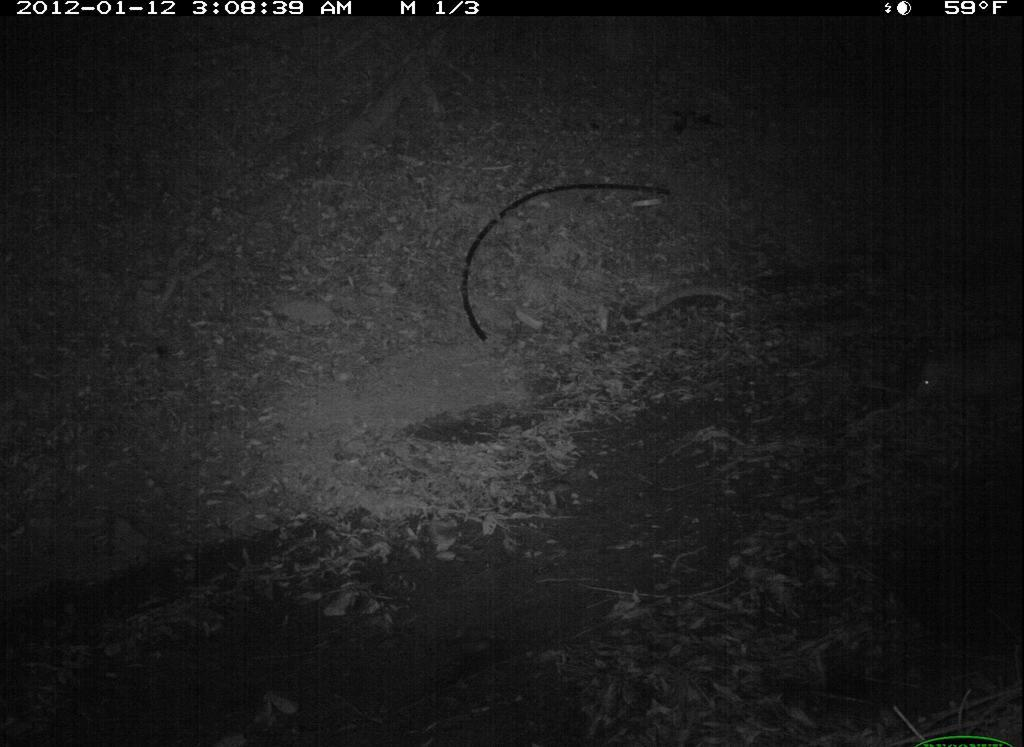opossum: (905, 336, 1022, 408)
